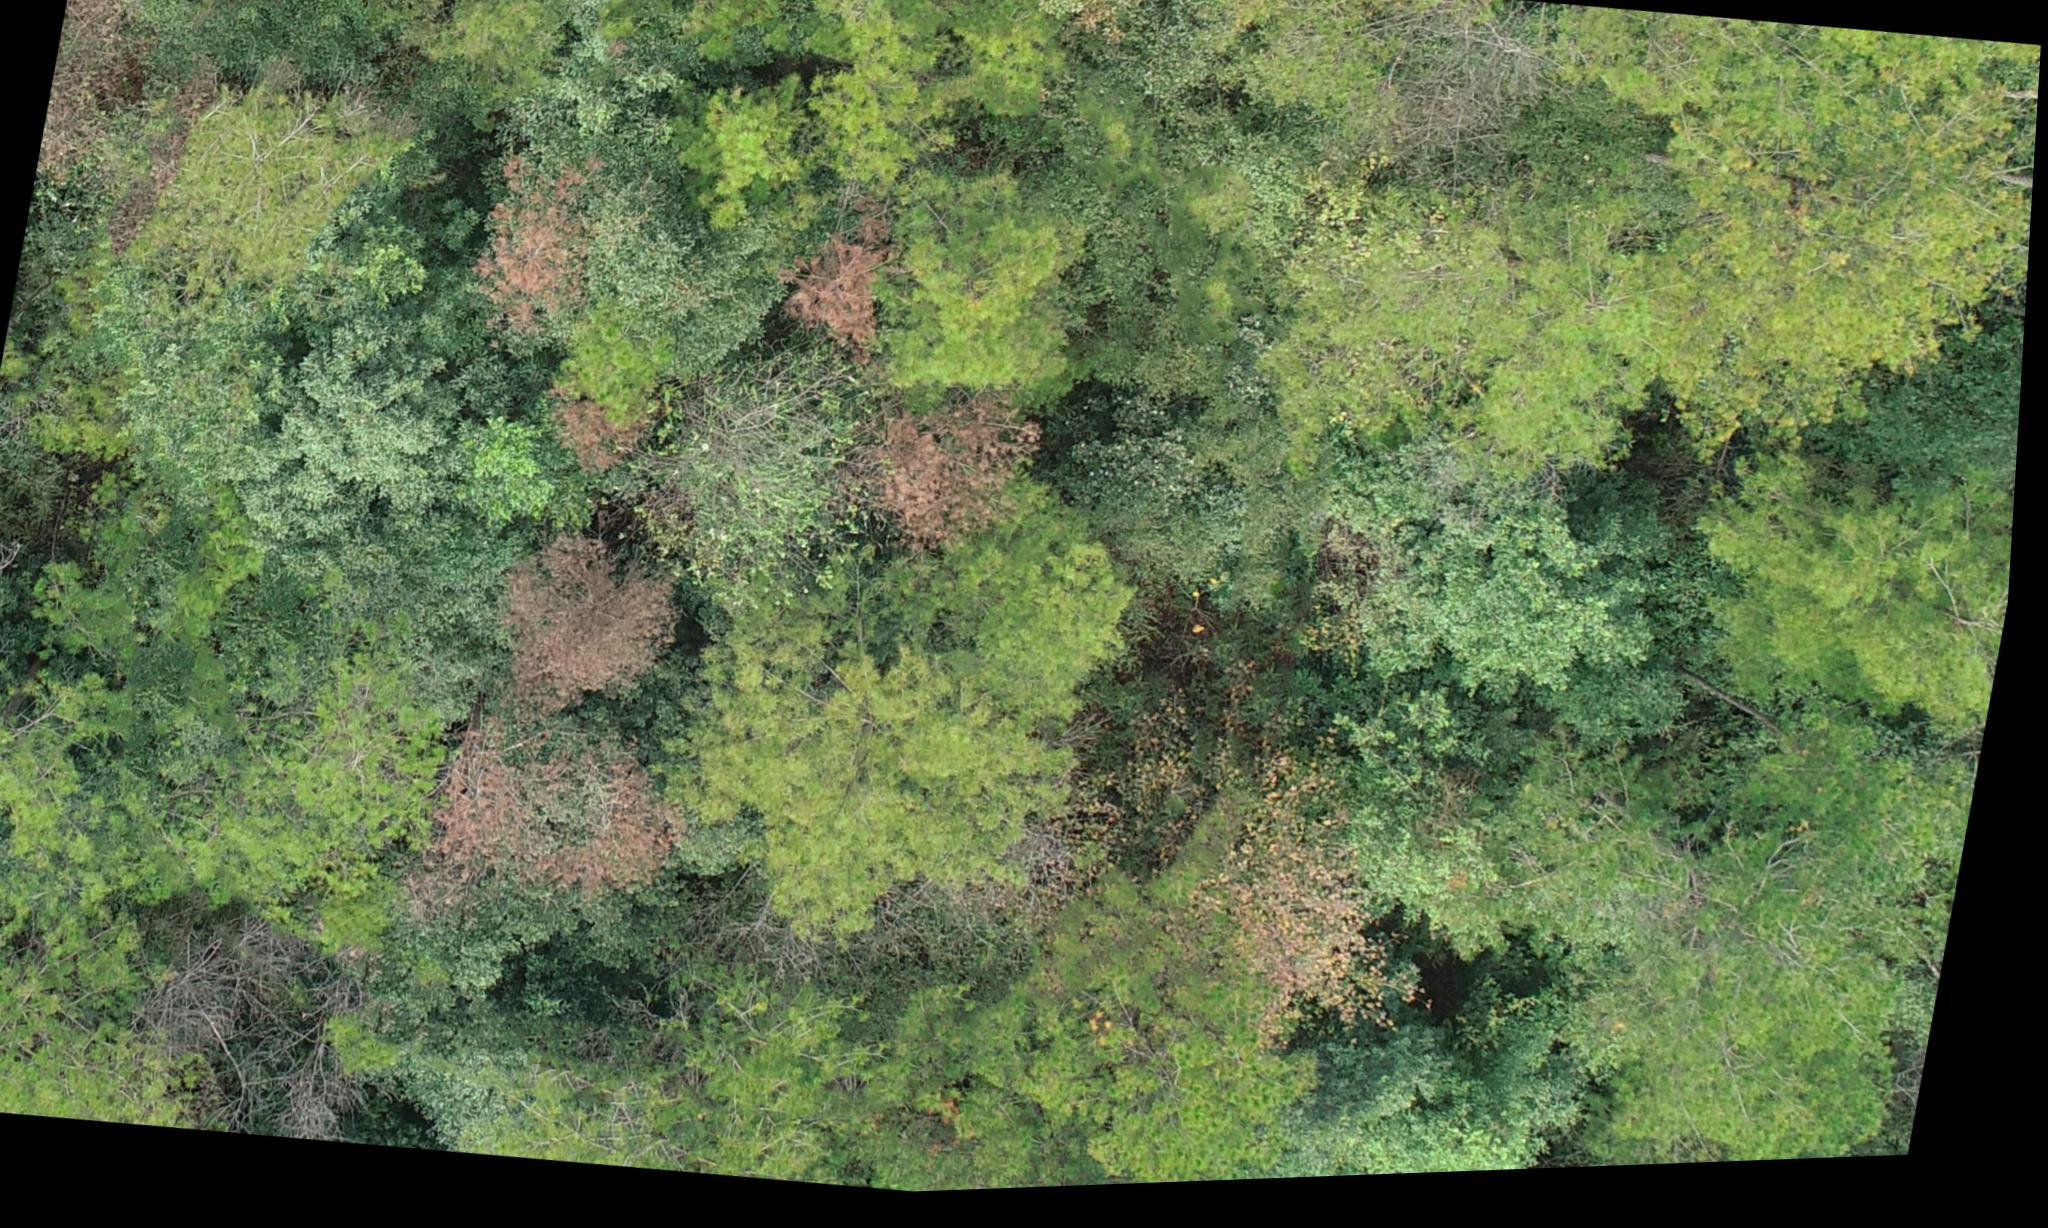heavy: (365, 719, 694, 955), (786, 373, 1074, 604), (472, 526, 708, 735), (769, 199, 933, 361)
light: (386, 121, 653, 373)
